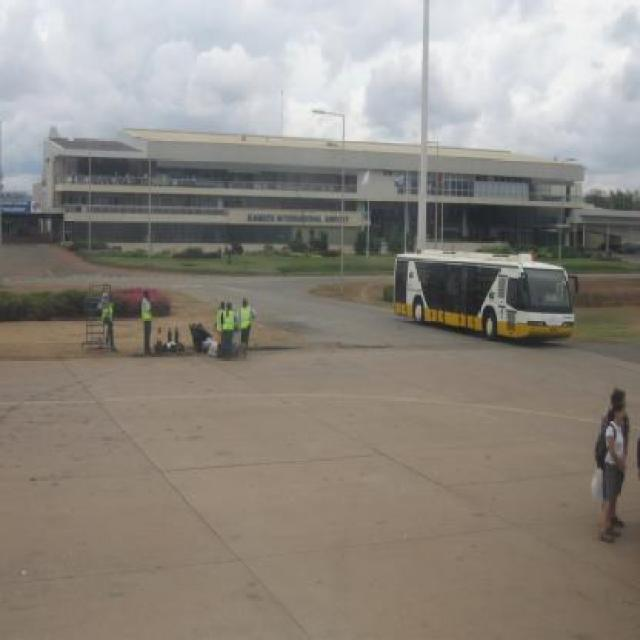motorcycle: (396, 242, 584, 342)
